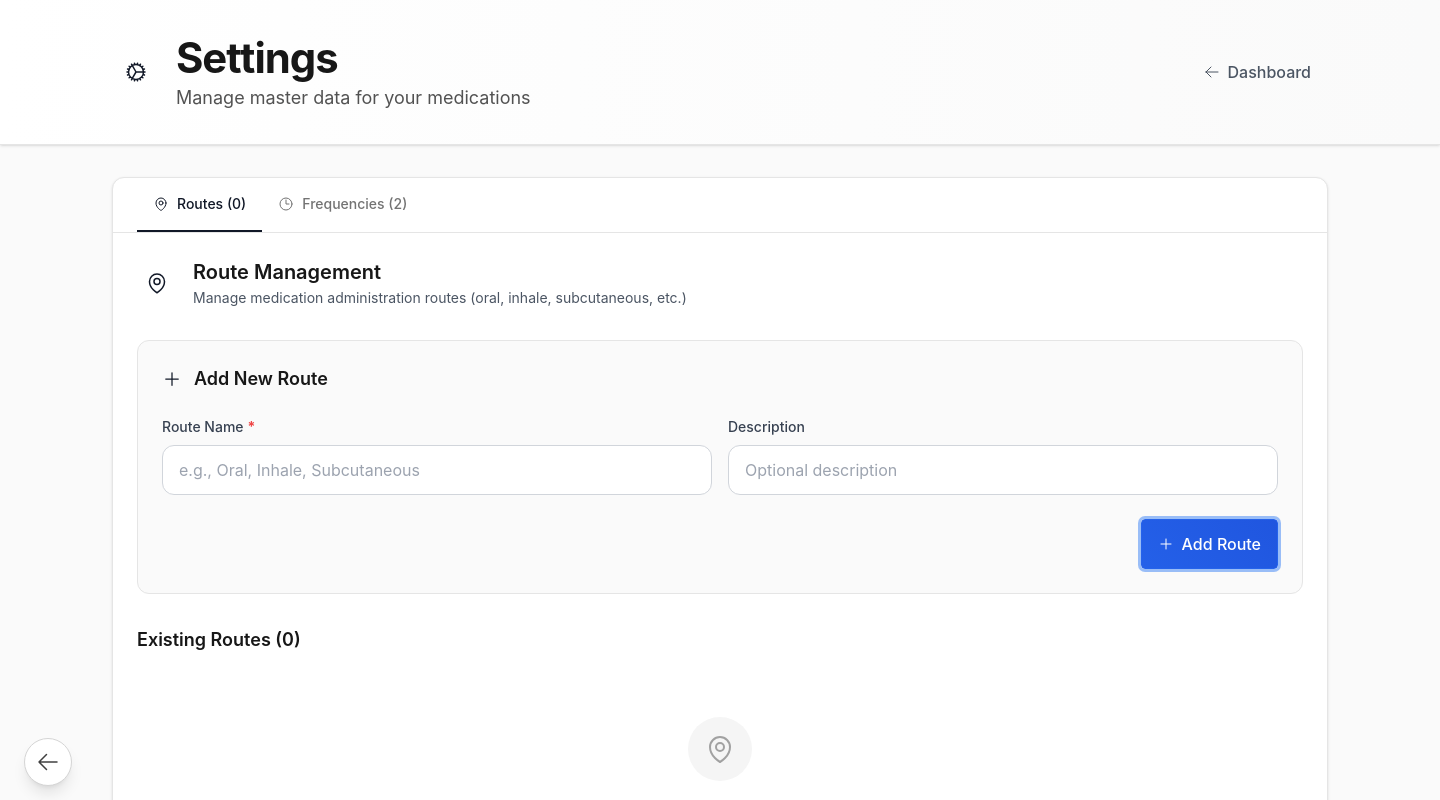
Test: Settings Component › Frequency Management › switches to frequency management tab
The image size is (1440, 800).
Click the button "Frequencies (2)": coordinates (343, 205) [262, 178, 423, 232]
(page scrolled)
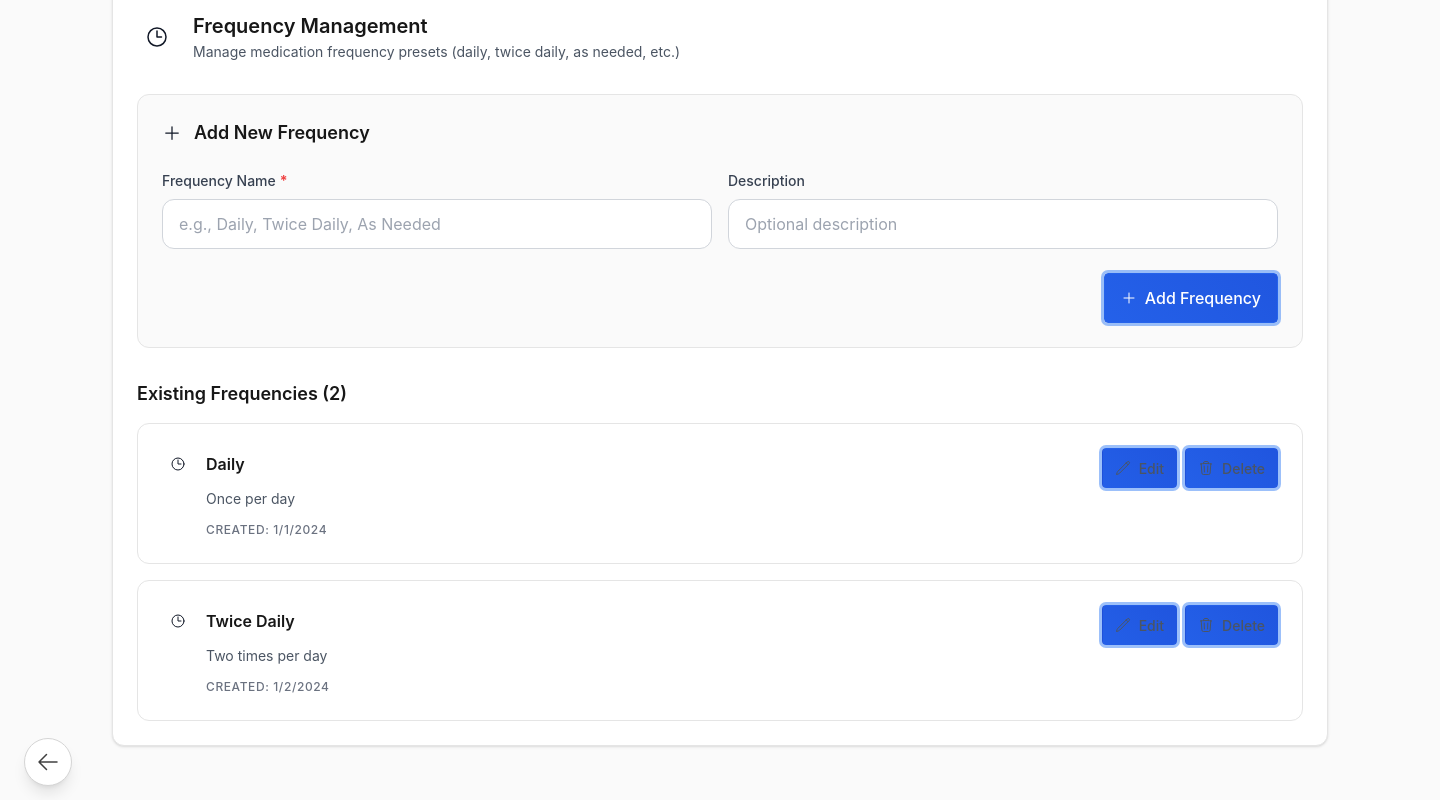
Result: the heading "Frequency Management" is shown at [193, 14, 428, 38]
Result: the heading "Daily" is shown at [206, 452, 245, 476]
Result: the heading "Twice Daily" is shown at [206, 609, 295, 633]
